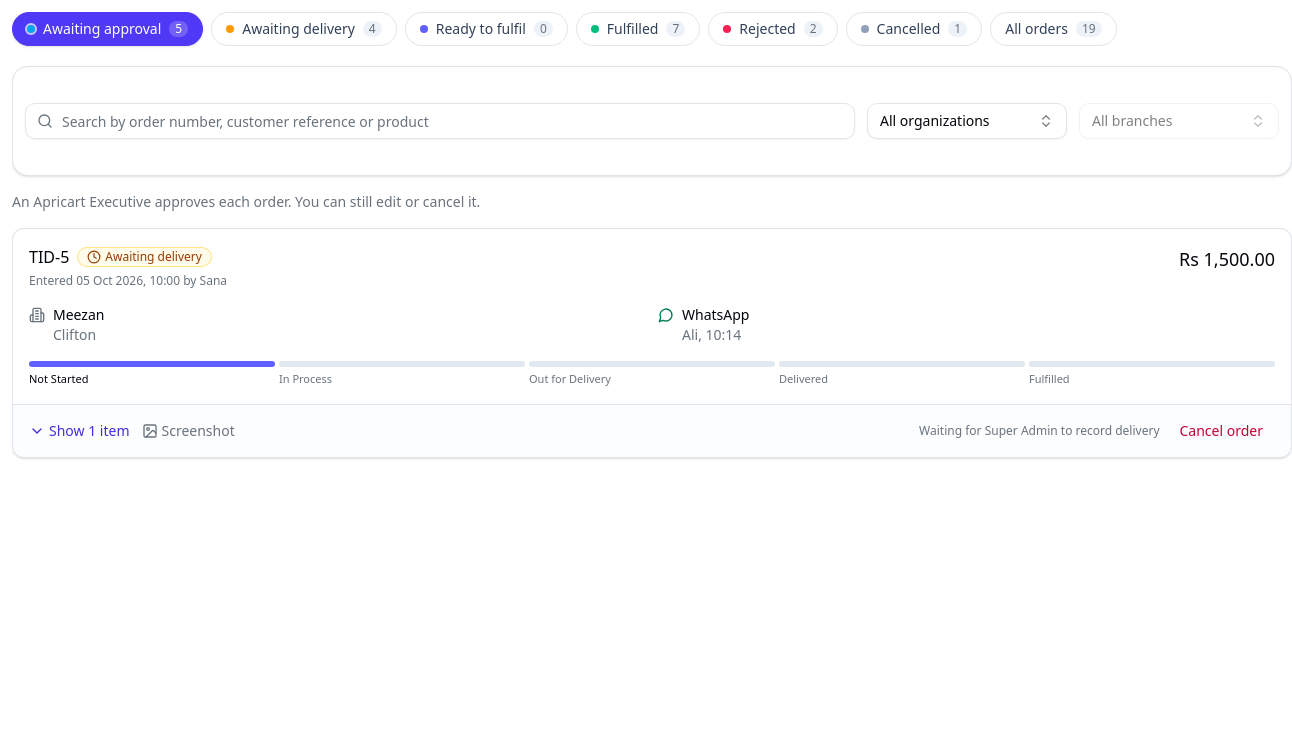
it: the desk's orders › links the screenshot through the desk's own route, and lists the items on request
This screenshot has width=1292, height=732.
Click the button "Show 1 item": (79, 430) x1=29 y1=420 x2=130 y2=440
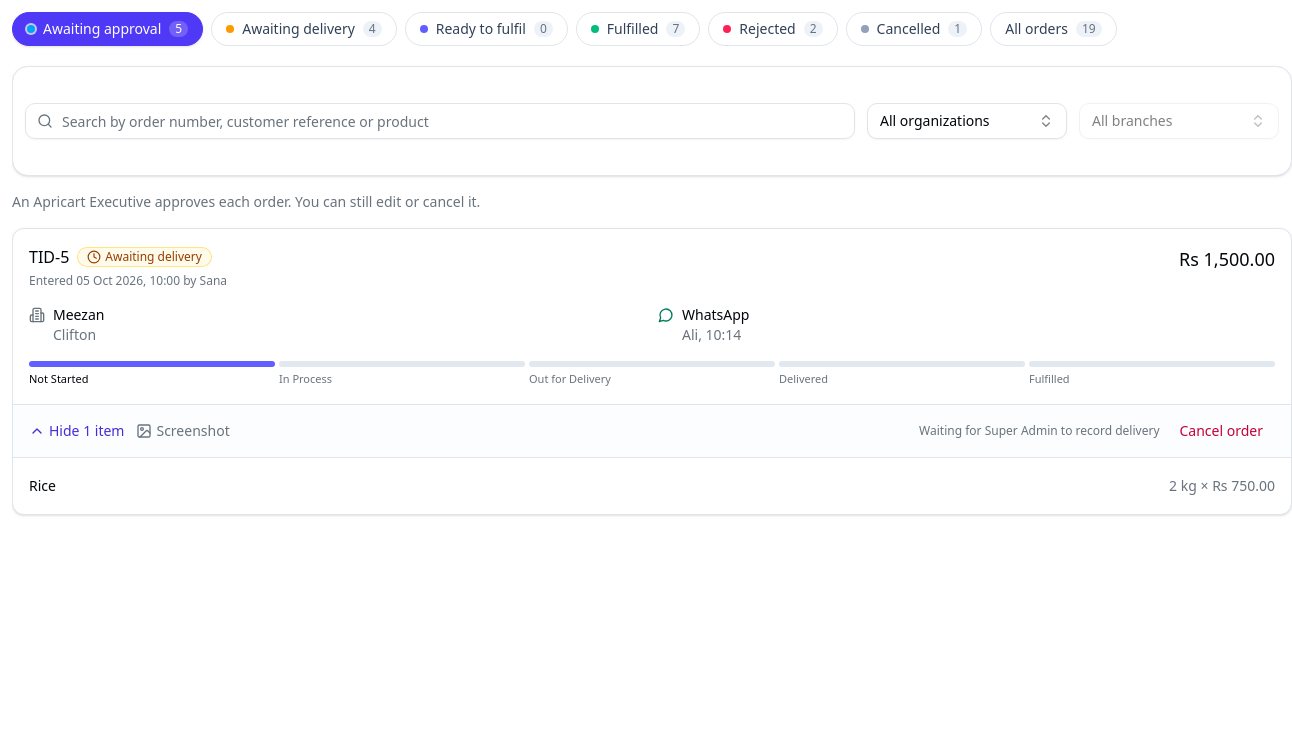
expect the text "Rice" is shown: met, box x1=29 y1=476 x2=56 y2=496
